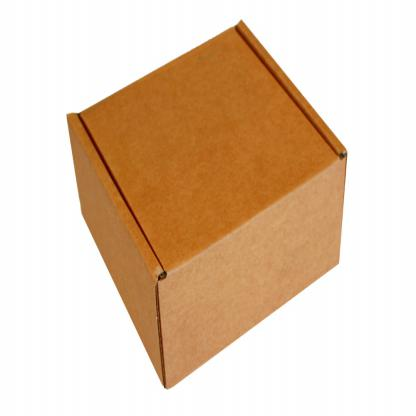box: (65, 19, 348, 392)
